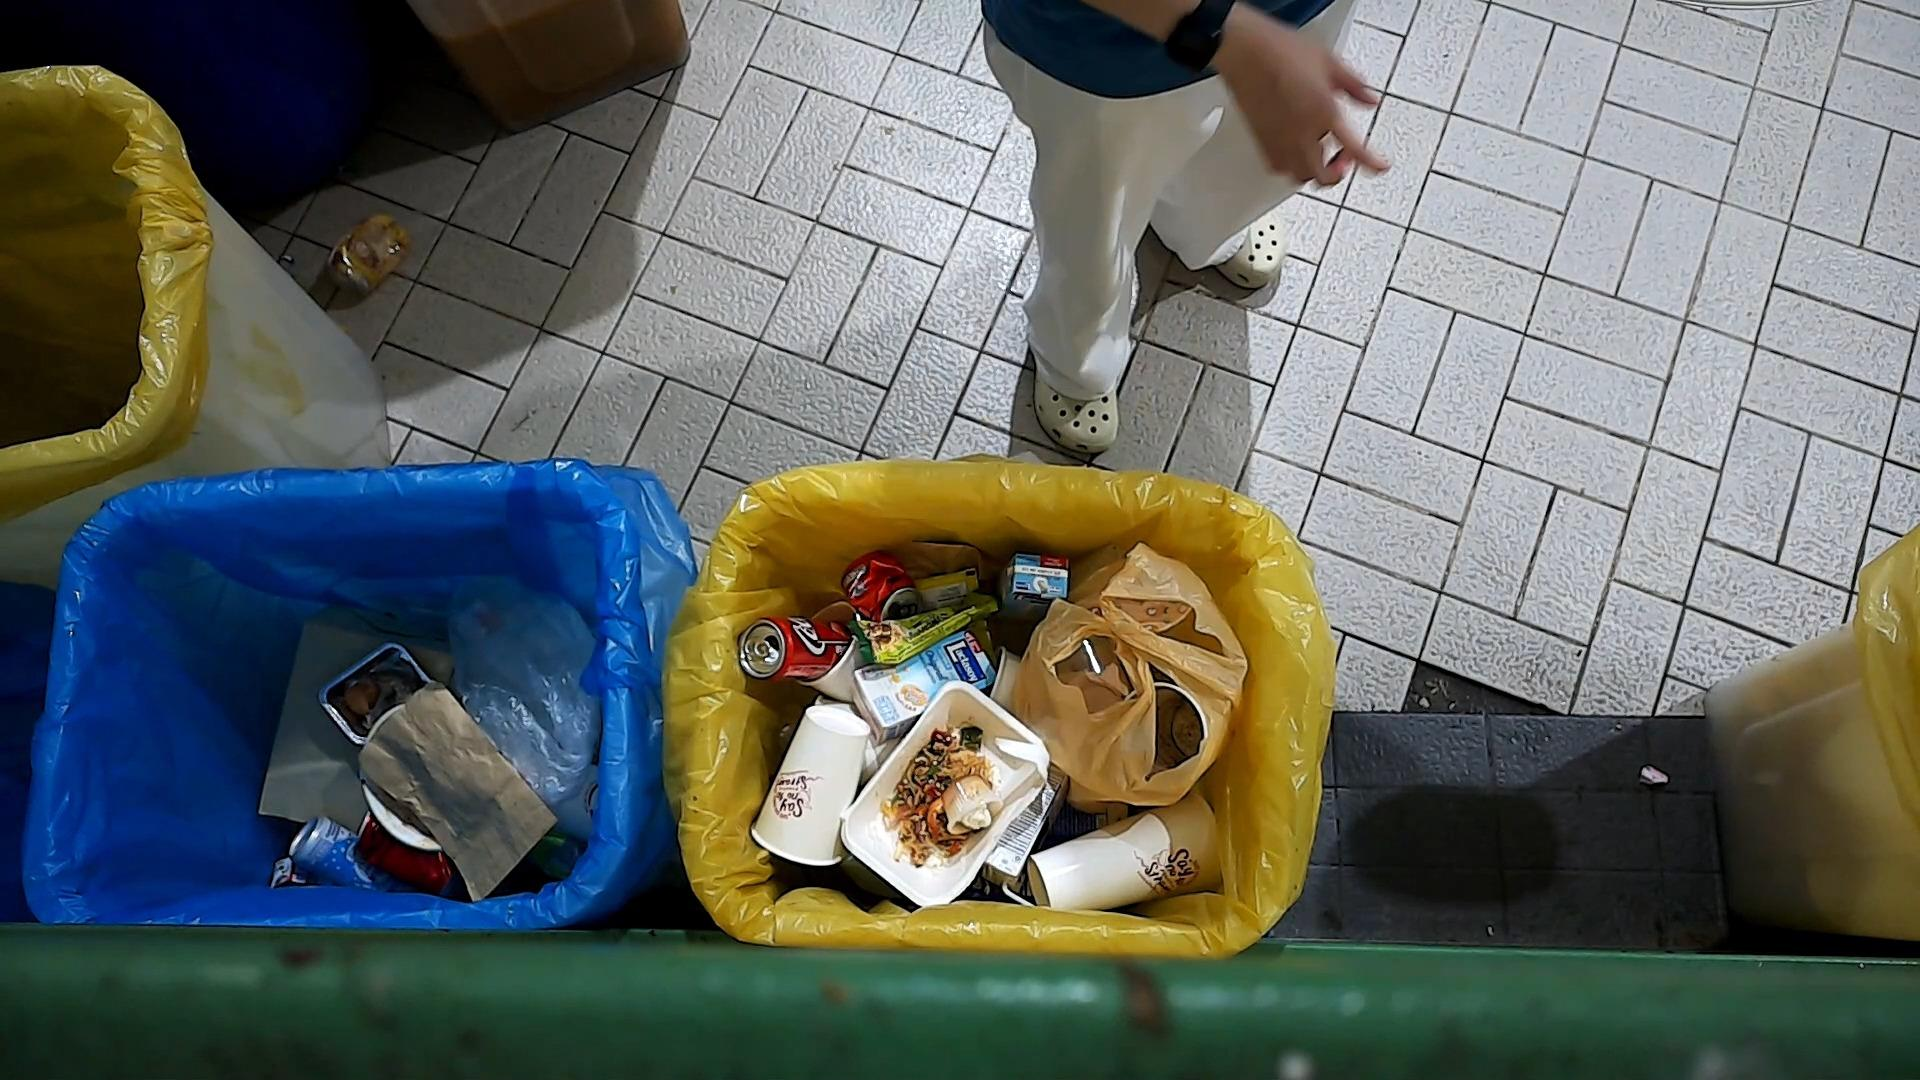can: (349, 806, 464, 898), (285, 814, 401, 893), (735, 611, 853, 686), (836, 545, 927, 624)
dirty food container: (835, 674, 1055, 910), (314, 640, 440, 745), (939, 773, 1009, 841)
filled plastic bag: (1006, 538, 1255, 812)
milk carton: (848, 625, 1001, 749), (982, 761, 1073, 907), (993, 551, 1071, 633)
paper bag: (253, 597, 458, 837), (353, 676, 562, 902)
plastic bag: (442, 564, 601, 810)
snack packaging: (845, 587, 1006, 669)
zero waste cup: (1023, 787, 1226, 918), (745, 703, 874, 870)
